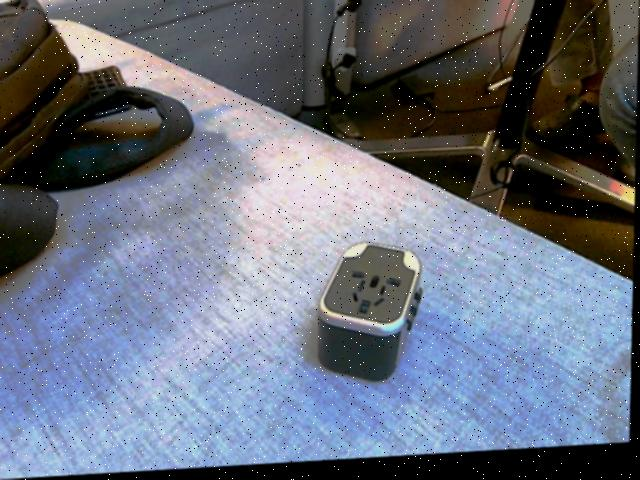adapter: (316, 243, 424, 388)
